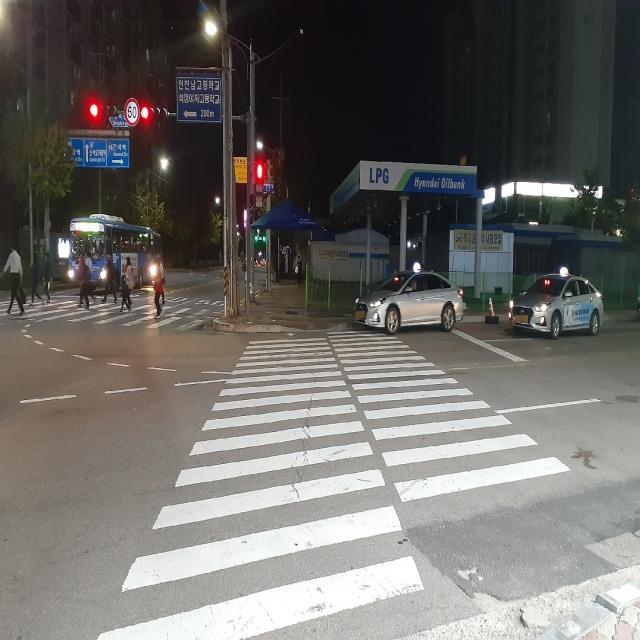빨간불: (256, 162, 266, 218)
횡단보도: (95, 328, 571, 640)
